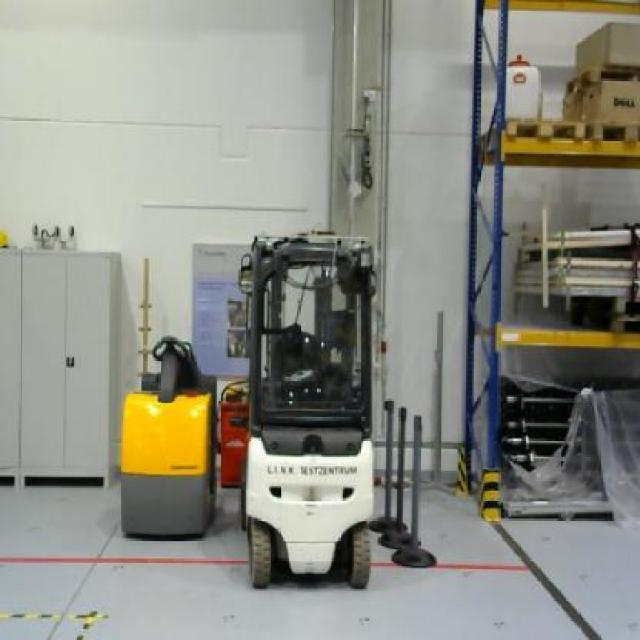box: (560, 78, 638, 131), (573, 22, 639, 70)
